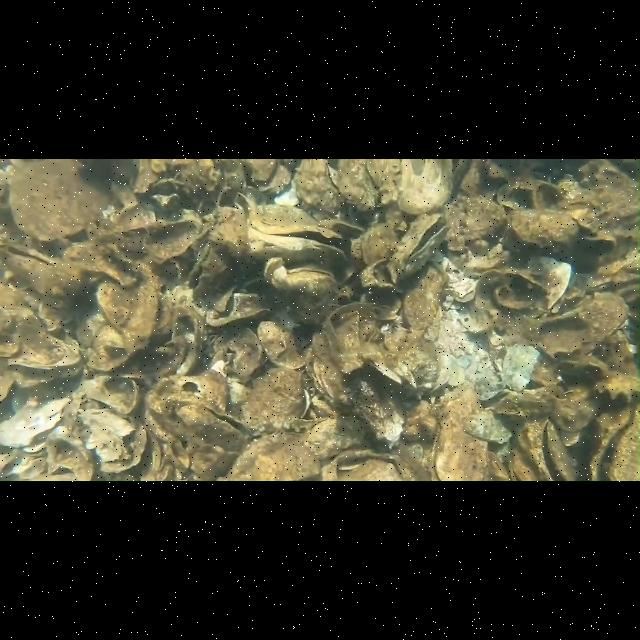Oyster-Closed: (313, 336, 407, 448), (8, 158, 104, 238), (94, 263, 162, 353), (429, 391, 488, 484), (222, 434, 322, 482), (561, 294, 631, 356), (242, 366, 306, 430), (402, 261, 450, 335), (397, 158, 451, 214), (510, 207, 582, 249), (294, 159, 344, 217), (256, 320, 306, 370), (336, 159, 380, 213), (364, 158, 404, 205)
Oyster-Open: (5, 326, 86, 386), (170, 390, 250, 448), (0, 242, 80, 298), (588, 402, 640, 482), (246, 228, 348, 266), (391, 214, 447, 282), (262, 256, 338, 300), (532, 414, 576, 482), (186, 240, 232, 302)
